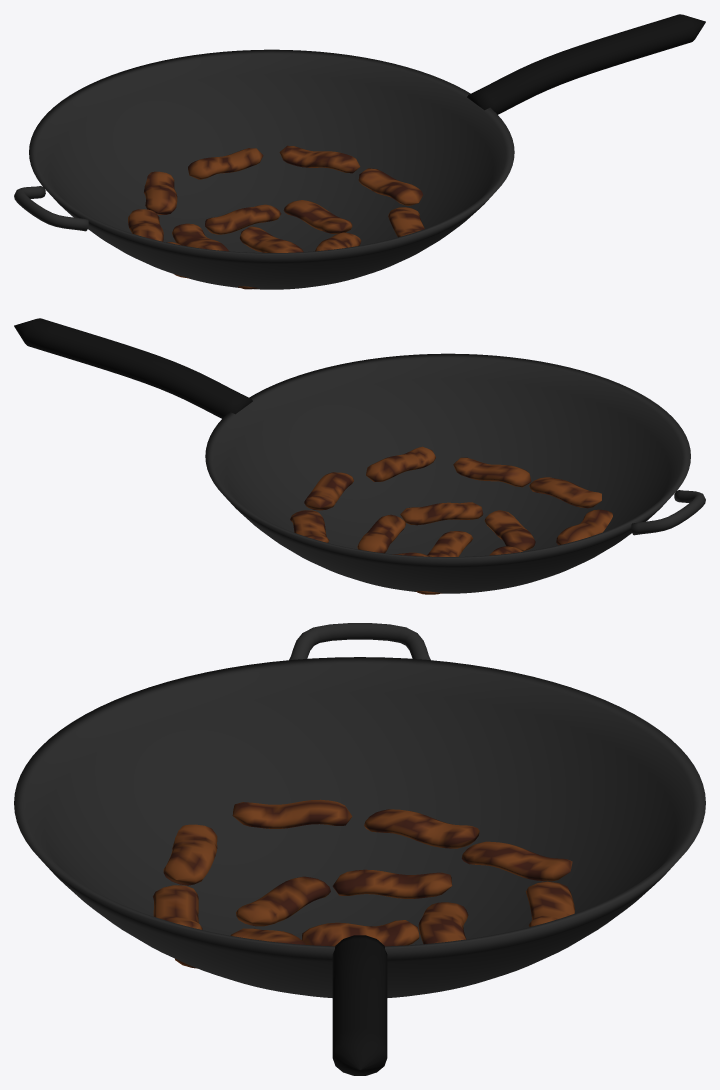
File: paso-3.glb
3 renders of one model, top to bottom at view 1: azimuth 30°, elevation 25°; view 2: azimuth 150°, elevation 25°; view 3: azimuth 270°, elevation 25°, orthographic. The views are drawn at different scales.
Parts seen in each view (by area): view 1: paso-3-0, paso-3-1, paso-3-10, paso-3-11, paso-3-5, paso-3-9, paso-3-2, paso-3-4, paso-3-12, paso-3-3, paso-3-6, paso-3-13 (+2 smaller); view 2: paso-3-0, paso-3-1, paso-3-8, paso-3-16, paso-3-17, paso-3-15, paso-3-2, paso-3-7, paso-3-9, paso-3-4, paso-3-14, paso-3-10 (+1 smaller); view 3: paso-3-0, paso-3-1, paso-3-14, paso-3-6, paso-3-13, paso-3-12, paso-3-2, paso-3-7, paso-3-15, paso-3-3, paso-3-5, paso-3-11 (+2 smaller).
Boxes of the visible parts, box(x1,y1,x2,y2) form: paso-3-0: box(29, 49, 514, 289); paso-3-1: box(467, 14, 705, 114); paso-3-10: box(279, 145, 360, 173); paso-3-11: box(188, 148, 263, 179); paso-3-5: box(205, 204, 281, 234); paso-3-9: box(358, 168, 422, 205); paso-3-2: box(14, 186, 88, 231); paso-3-4: box(283, 200, 352, 233); paso-3-12: box(144, 171, 177, 214); paso-3-3: box(240, 226, 303, 252); paso-3-6: box(172, 223, 228, 251); paso-3-13: box(128, 209, 163, 241); paso-3-0: box(205, 353, 690, 593); paso-3-1: box(14, 318, 252, 418); paso-3-8: box(400, 502, 483, 525); paso-3-16: box(453, 457, 531, 487); paso-3-17: box(366, 446, 435, 481); paso-3-15: box(529, 477, 601, 508); paso-3-2: box(631, 490, 705, 535); paso-3-7: box(484, 510, 535, 551); paso-3-9: box(304, 472, 353, 510); paso-3-4: box(357, 514, 405, 553); paso-3-14: box(556, 509, 612, 545); paso-3-10: box(290, 510, 329, 542); paso-3-0: box(14, 657, 705, 997); paso-3-1: box(332, 935, 387, 1075); paso-3-14: box(232, 799, 352, 828); paso-3-6: box(332, 869, 452, 898); paso-3-13: box(364, 809, 479, 848); paso-3-12: box(461, 841, 572, 881); paso-3-2: box(289, 623, 430, 660); paso-3-7: box(236, 876, 330, 926); paso-3-15: box(163, 824, 217, 885); paso-3-3: box(302, 920, 419, 946); paso-3-5: box(418, 902, 468, 944); paso-3-11: box(525, 881, 575, 926).
Size of the model in its own units: 0.5164 by 0.1037 by 0.3198.
